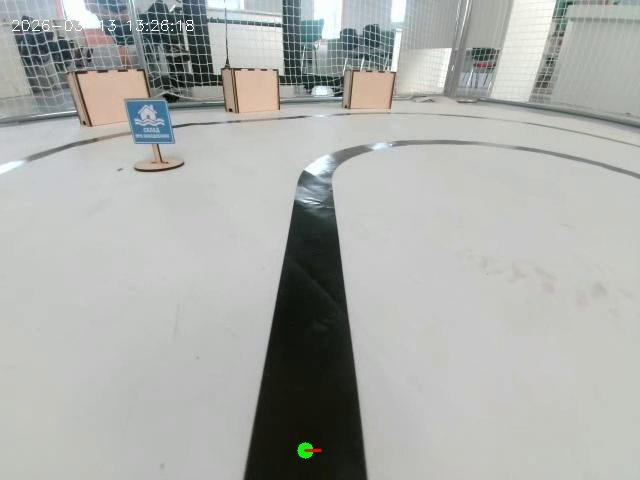flood: (92, 73, 193, 193)
